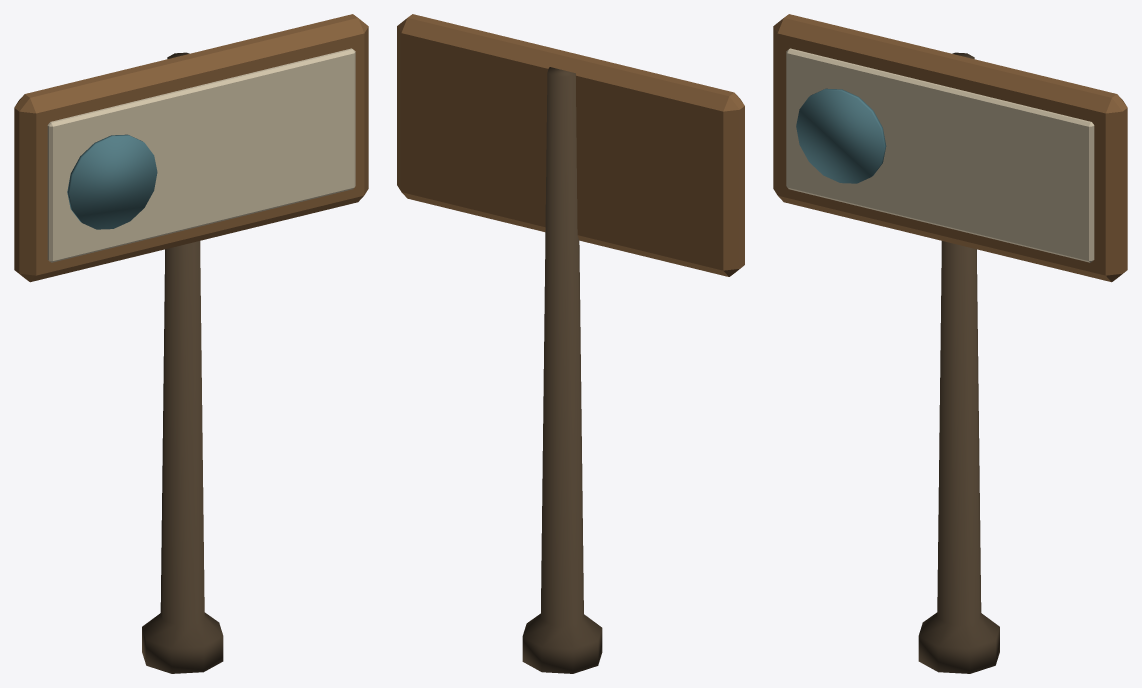
File: sign_standing.glb
3 renders of one model, left to right at view 1: azimuth 30°, elevation 25°; view 2: azimuth 150°, elevation 25°; view 3: azimuth 330°, elevation 25°, orthographic.
Parts seen in each view (by area): view 1: sign_standing; view 2: sign_standing; view 3: sign_standing.
Part boxes in pixels (bbox=[...]): sign_standing: bbox=[14, 14, 368, 673]; sign_standing: bbox=[397, 14, 744, 673]; sign_standing: bbox=[773, 14, 1127, 673].
Bounding box in the file's own units: 1.15 × 1.91 × 0.262.
